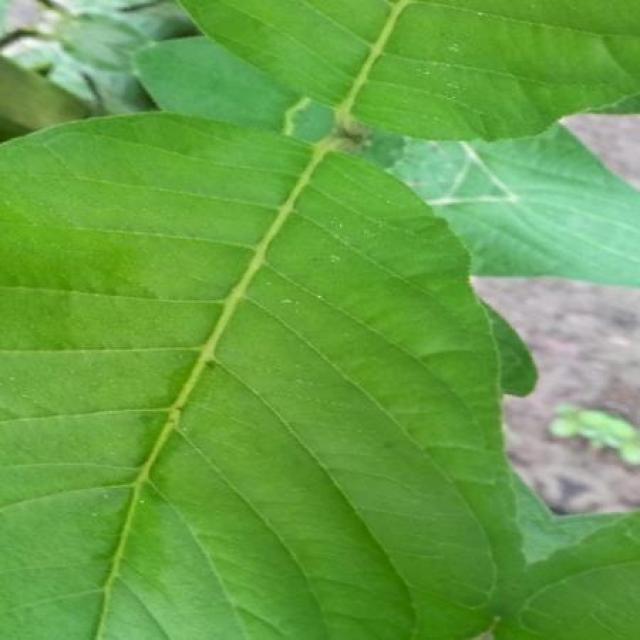Disease Free: (2, 114, 542, 639), (182, 1, 640, 138), (388, 124, 640, 284), (506, 512, 640, 640)
